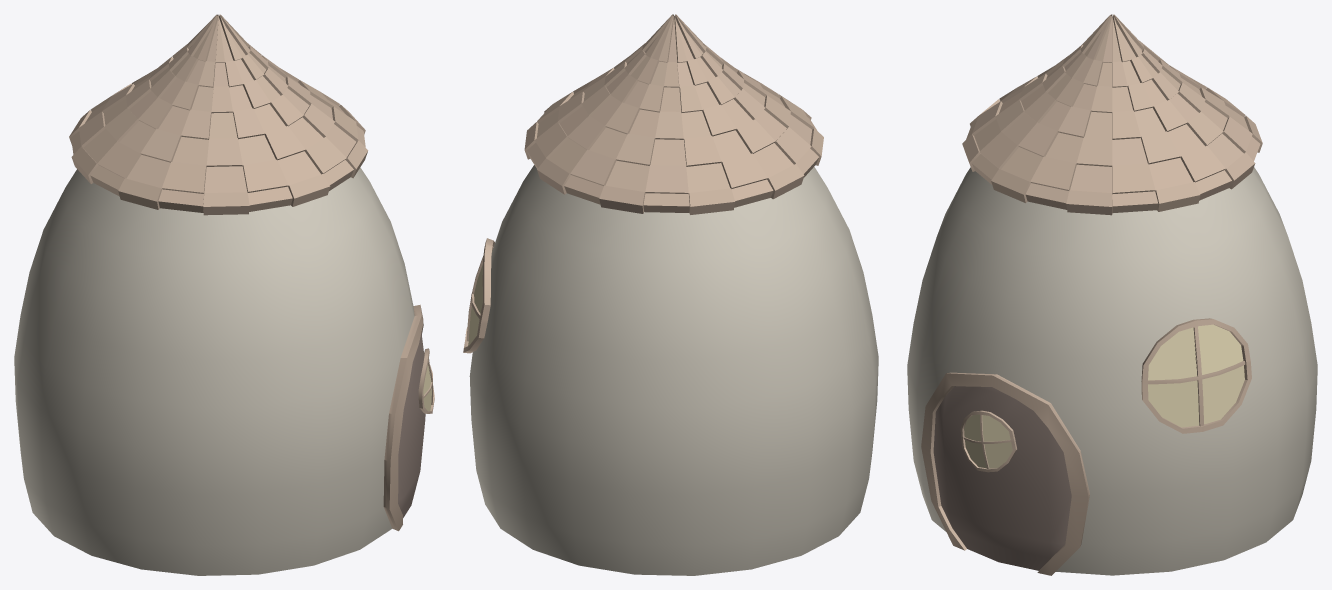
Rendered from Lep_House.fbx.
3 renders of one model, left to right at view 1: azimuth 30°, elevation 25°; view 2: azimuth 150°, elevation 25°; view 3: azimuth 270°, elevation 25°, orthographic.
Visible parts, largest first — view 1: Lep_House; view 2: Lep_House; view 3: Lep_House.
Part boxes in pixels (left/top/right/bottom): Lep_House: left=14, top=14, right=434, bottom=575; Lep_House: left=463, top=14, right=878, bottom=575; Lep_House: left=907, top=14, right=1317, bottom=575.
Size of the model in its own units: 653 by 840 by 649.
